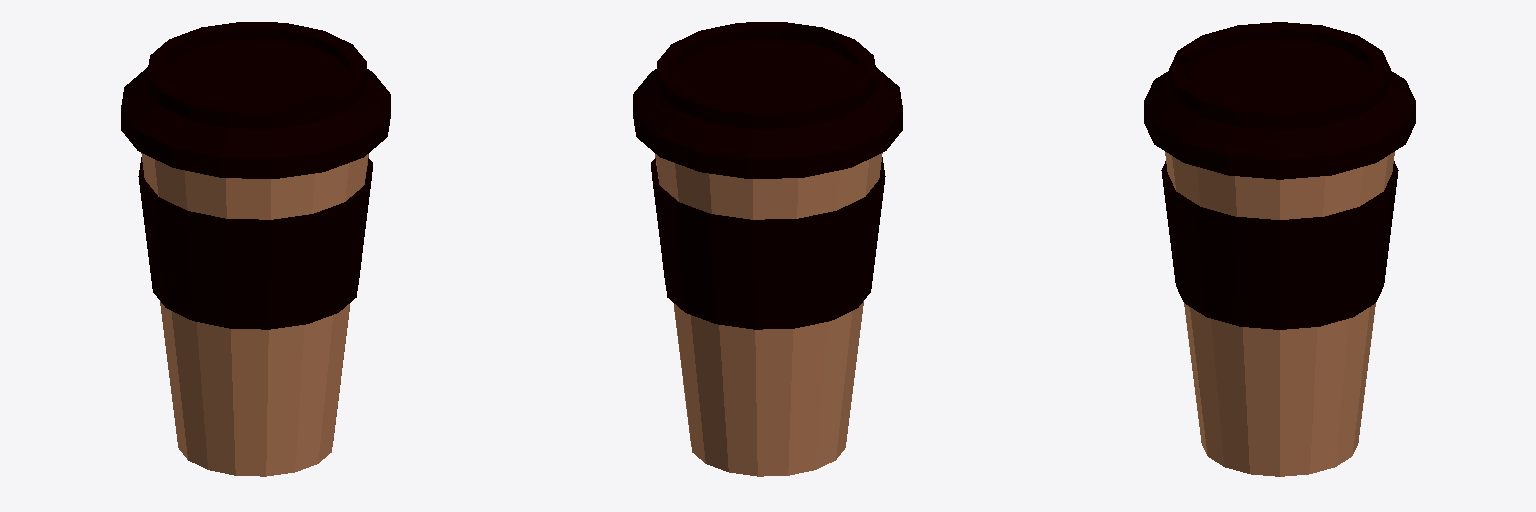
Rendered from cafe.obj.
3 renders of one model, left to right at view 1: azimuth 30°, elevation 25°; view 2: azimuth 150°, elevation 25°; view 3: azimuth 270°, elevation 25°, orthographic.
Parts seen in each view (by area): view 1: Cylinder, Cylinder.001; view 2: Cylinder, Cylinder.001; view 3: Cylinder, Cylinder.001.
Part boxes in pixels (left/top/right/bottom): Cylinder: left=138, top=153, right=372, bottom=476; Cylinder.001: left=121, top=22, right=390, bottom=178; Cylinder: left=651, top=153, right=885, bottom=476; Cylinder.001: left=633, top=22, right=902, bottom=178; Cylinder: left=1161, top=152, right=1398, bottom=476; Cylinder.001: left=1144, top=22, right=1415, bottom=179.
Bounding box in the file's own units: 2.28 × 3.46 × 2.28.